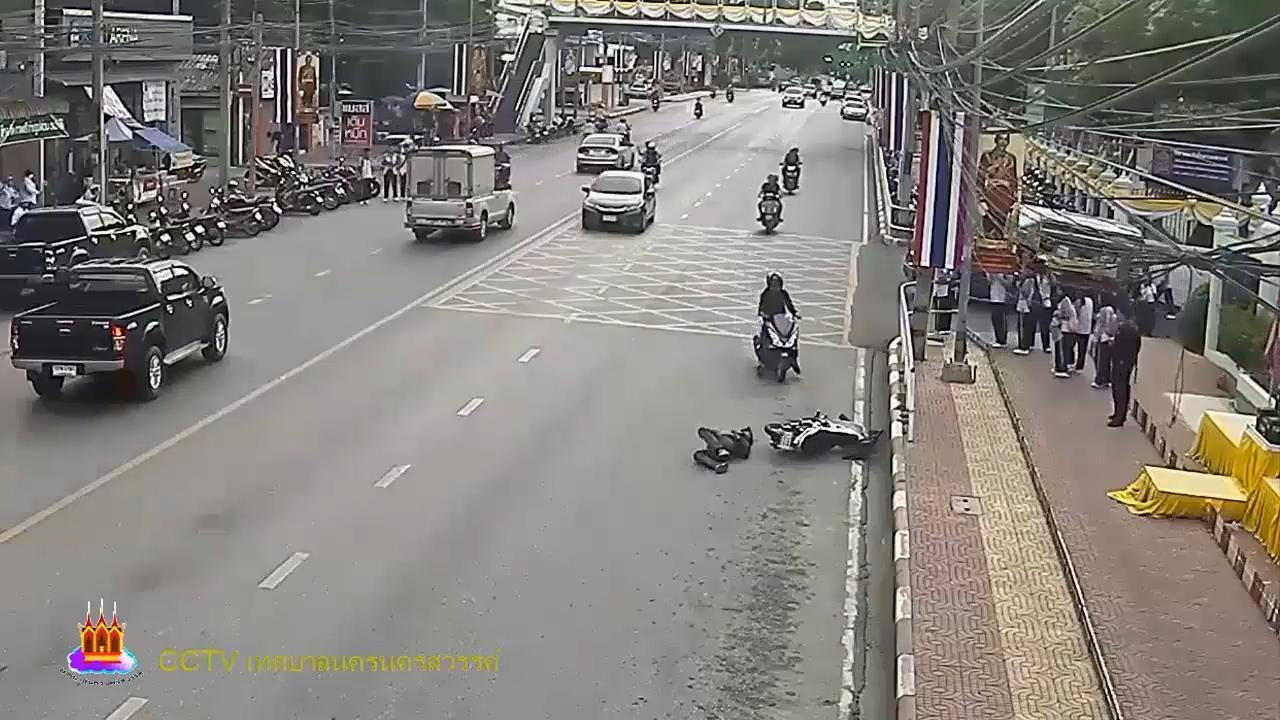accident: (687, 417, 755, 478)
